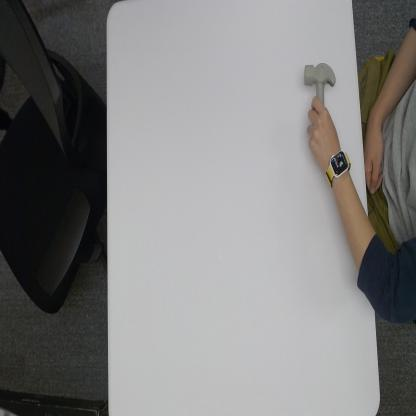Arm: (339, 181, 370, 286)
Hammer: (303, 61, 337, 103)
Hand: (306, 95, 339, 160)
